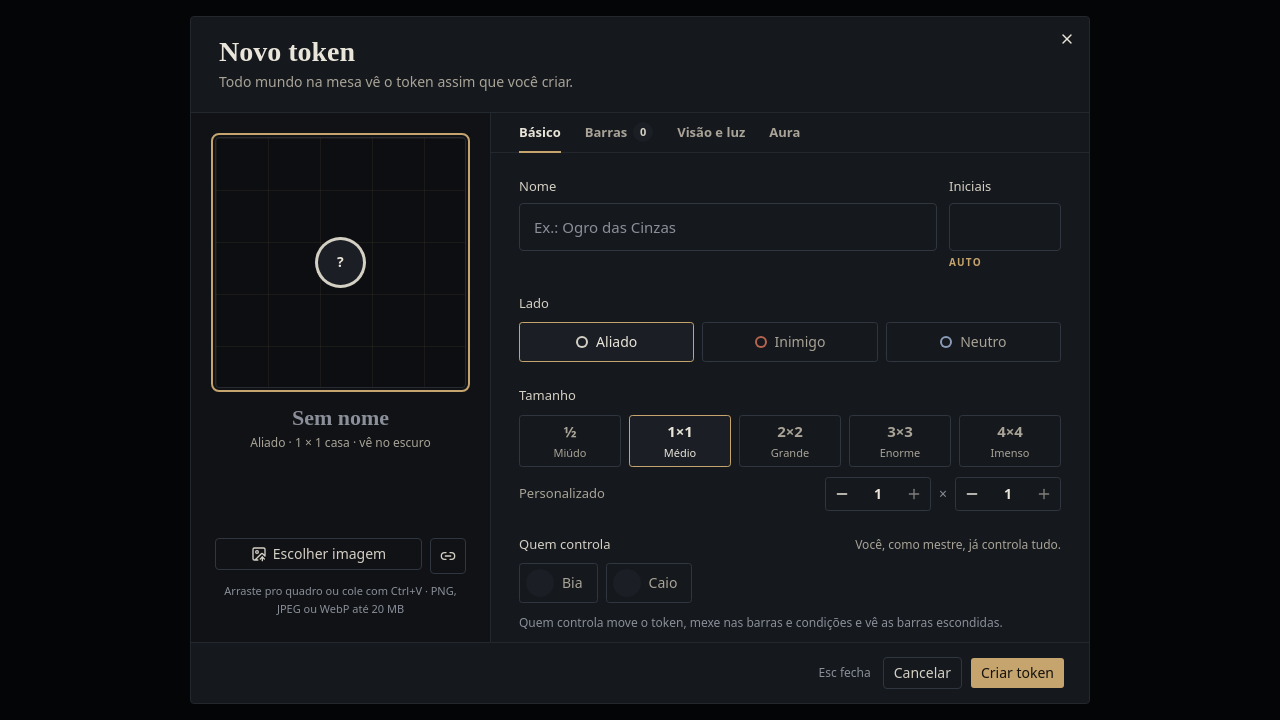
it: TokenDialog, vision and light › the summary of the preview says "vê no escuro", and "com luz" once the light is on
Check: the text "Aliado · 1 × 1 casa · vê no escuro" is shown, box [250,434,431,451]
Click the tab "Visão e luz": (711,133) [677,113,745,153]
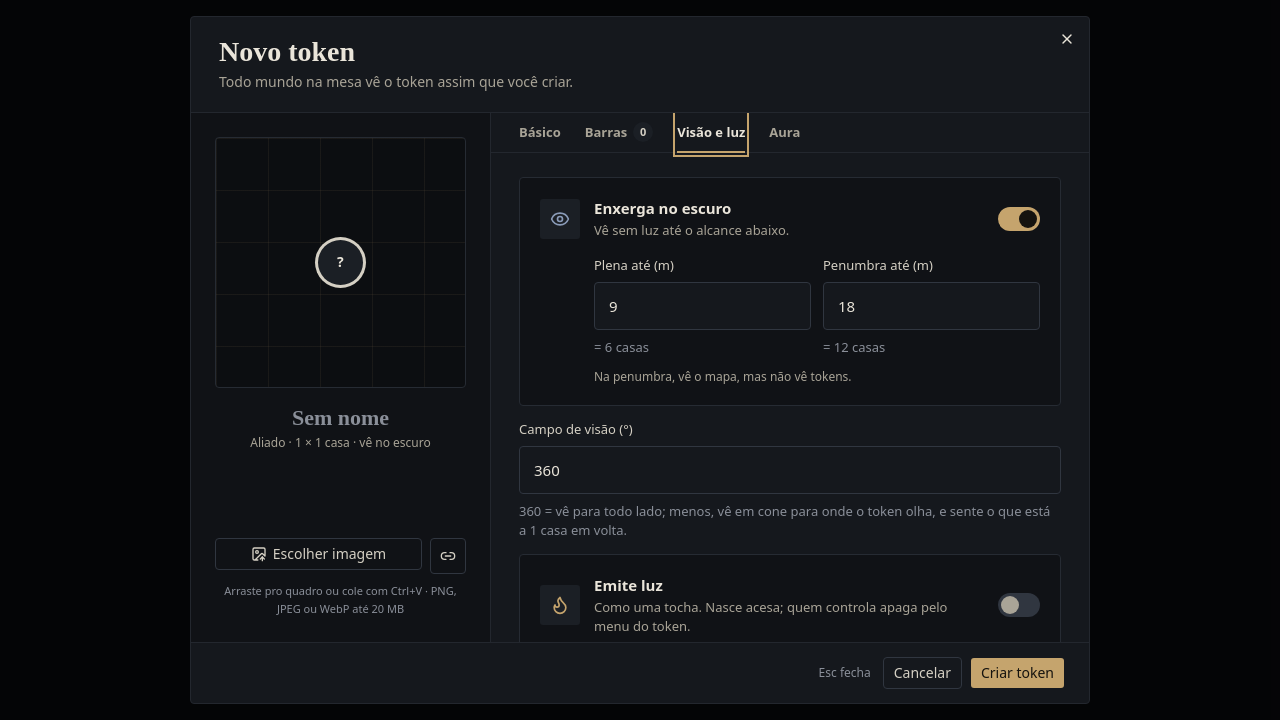
Click the 2nd switch named "Emite luz": (1019,605) [998,593,1040,617]
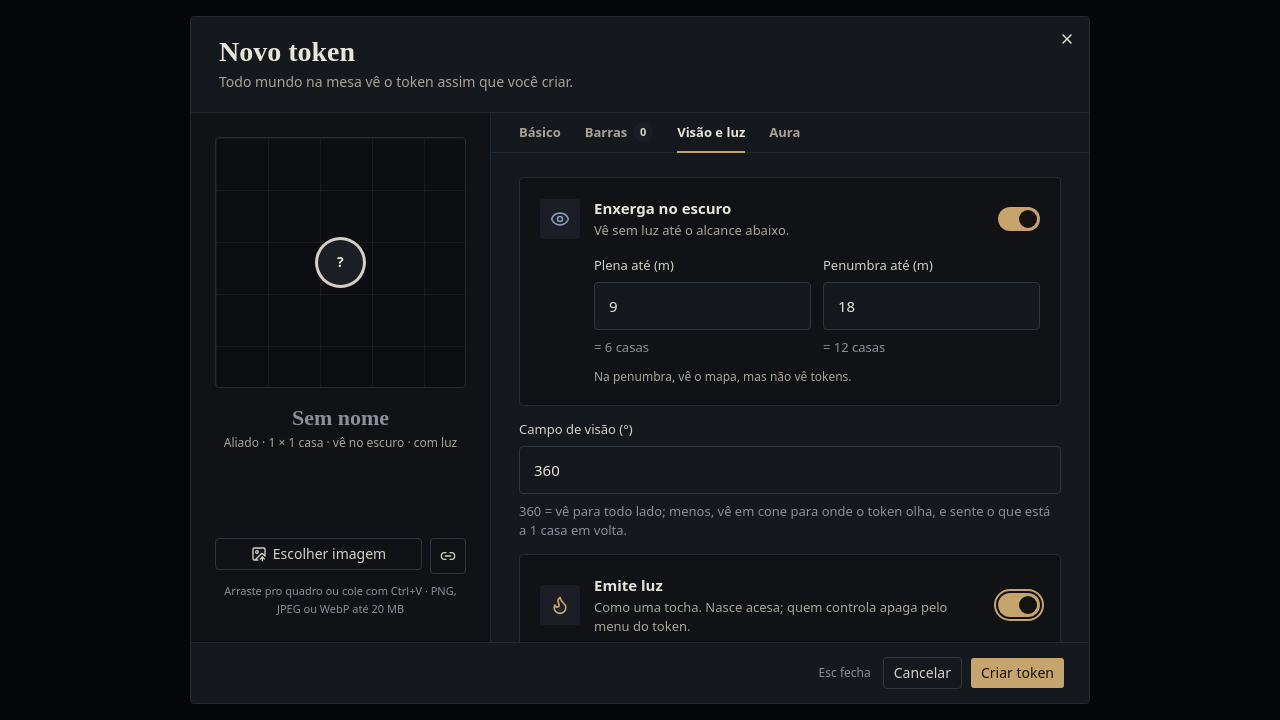
Check: the text "Aliado · 1 × 1 casa · vê no escuro · com luz" is shown, box [215,435,466,451]
